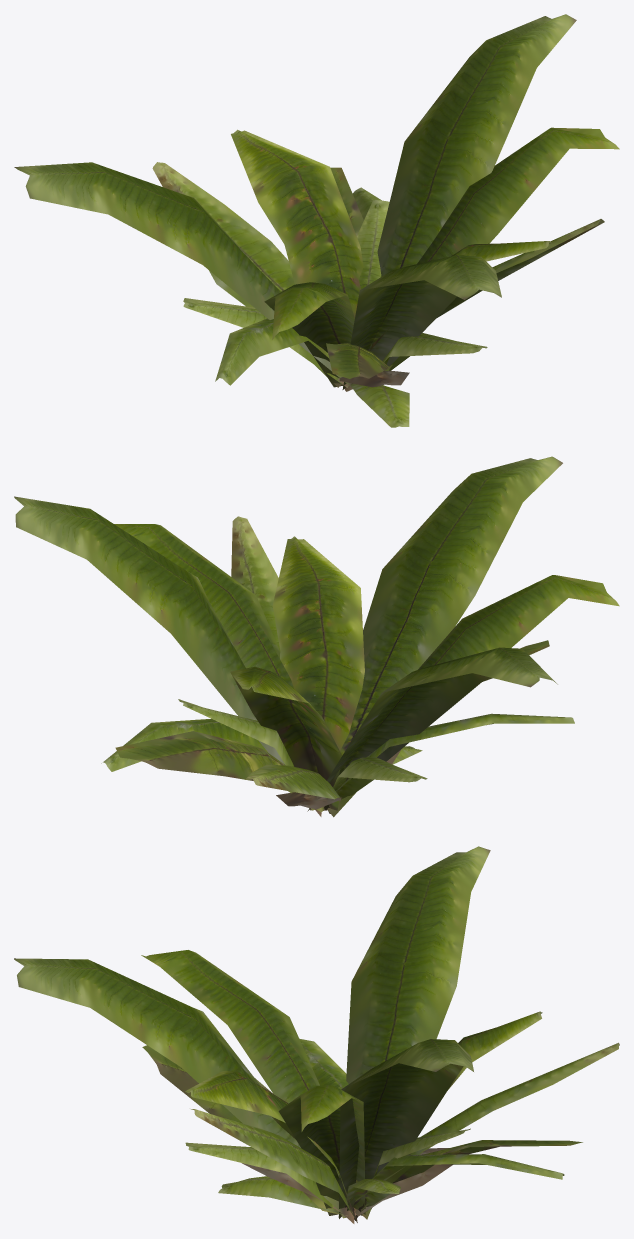
The model's file is fern.obj.
3 views of the same model, one above another, from view 1: azimuth 30°, elevation 25°; view 2: azimuth 150°, elevation 25°; view 3: azimuth 270°, elevation 25° (orthographic). The views are drawn at different scales.
Visible parts, largest first — view 1: fern21; view 2: fern21; view 3: fern21.
Part boxes in pixels (<box>): fern21: <box>14,14,619,427</box>; fern21: <box>14,456,619,817</box>; fern21: <box>14,846,619,1223</box>.
Size of the model in its own units: 228 by 113 by 224.
1 material, 1 textured.
